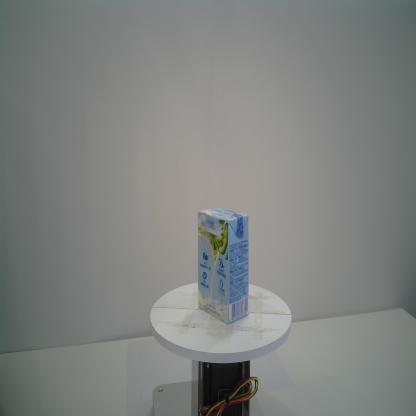Milk: (198, 207, 250, 325)
